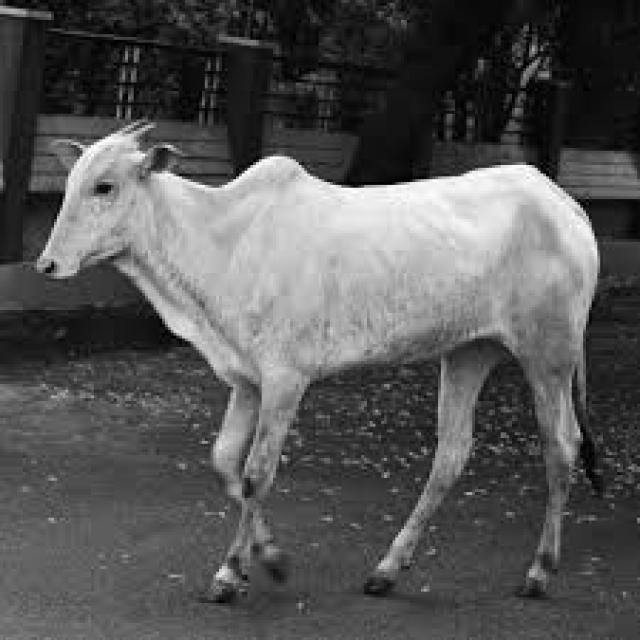Cow: (31, 111, 606, 603)
